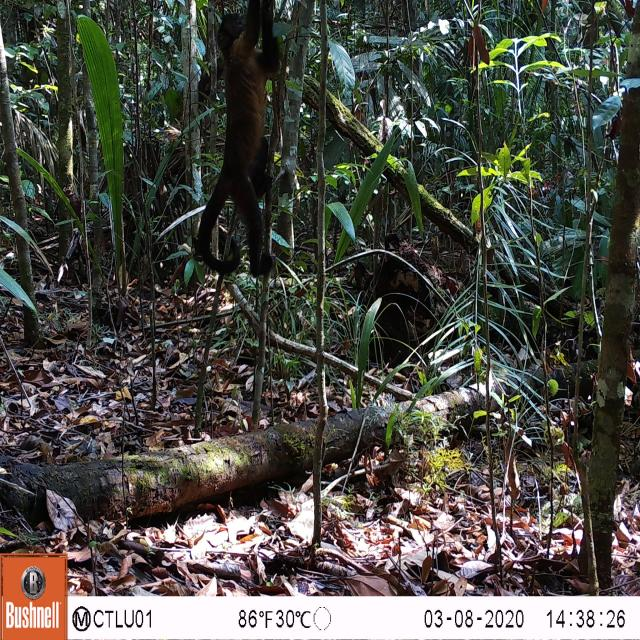Margarita Island Capuchin: (192, 0, 286, 281), (167, 246, 194, 292)
